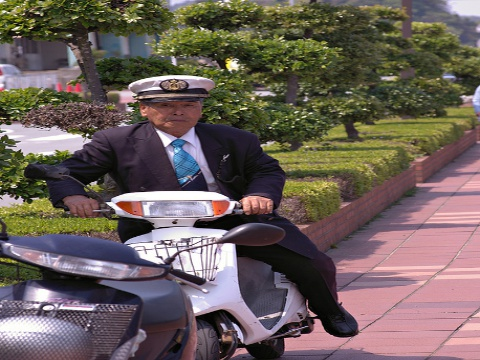hand: (66, 198, 101, 218), (240, 196, 274, 216)
